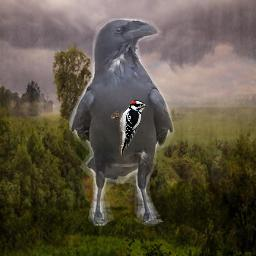Crow: (69, 18, 176, 226)
Woodpecker: (111, 100, 148, 156)
